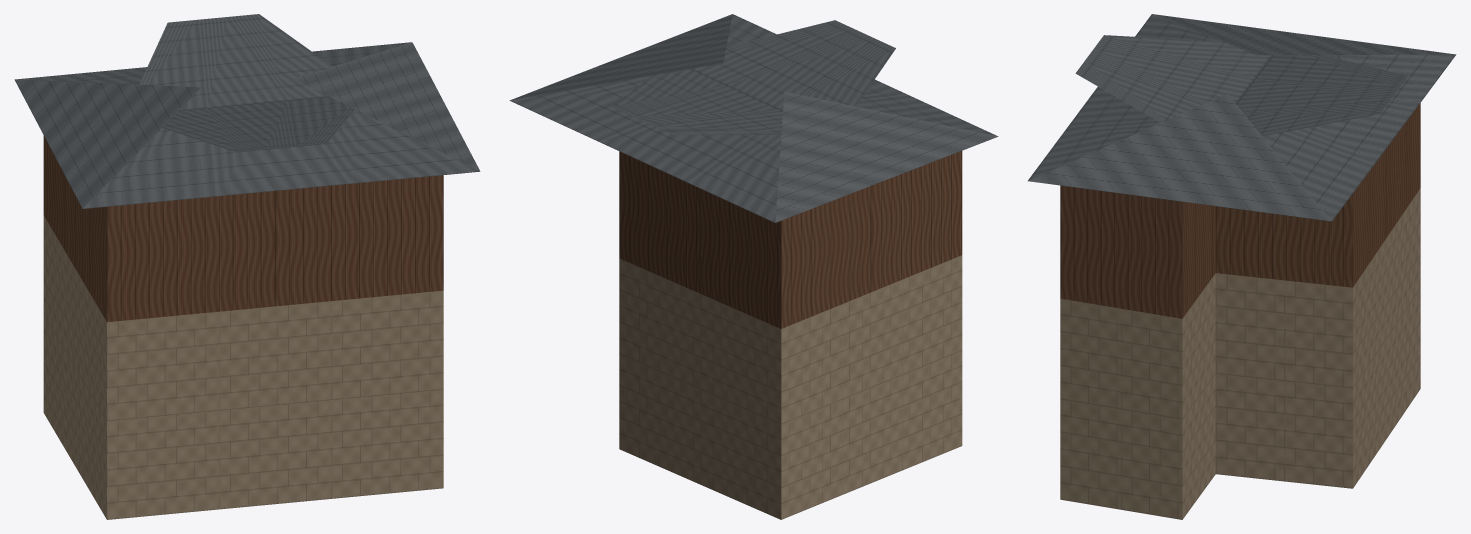
Rendered from bld_c-40_13_755.gltf.
3 views of the same model, side by side, from view 1: azimuth 30°, elevation 25°; view 2: azimuth 150°, elevation 25°; view 3: azimuth 270°, elevation 25° (orthographic). The views are drawn at different scales.
Parts seen in each view (by area): view 1: bld_c-40_13_755; view 2: bld_c-40_13_755; view 3: bld_c-40_13_755.
Boxes of the visible parts, box(x1,y1,x2,y2) form: bld_c-40_13_755: box(14, 14, 480, 519); bld_c-40_13_755: box(509, 14, 998, 519); bld_c-40_13_755: box(1028, 14, 1456, 519).
Size of the model in its own units: 10.29 by 8.6 by 8.99.
3 materials, 3 textured.
